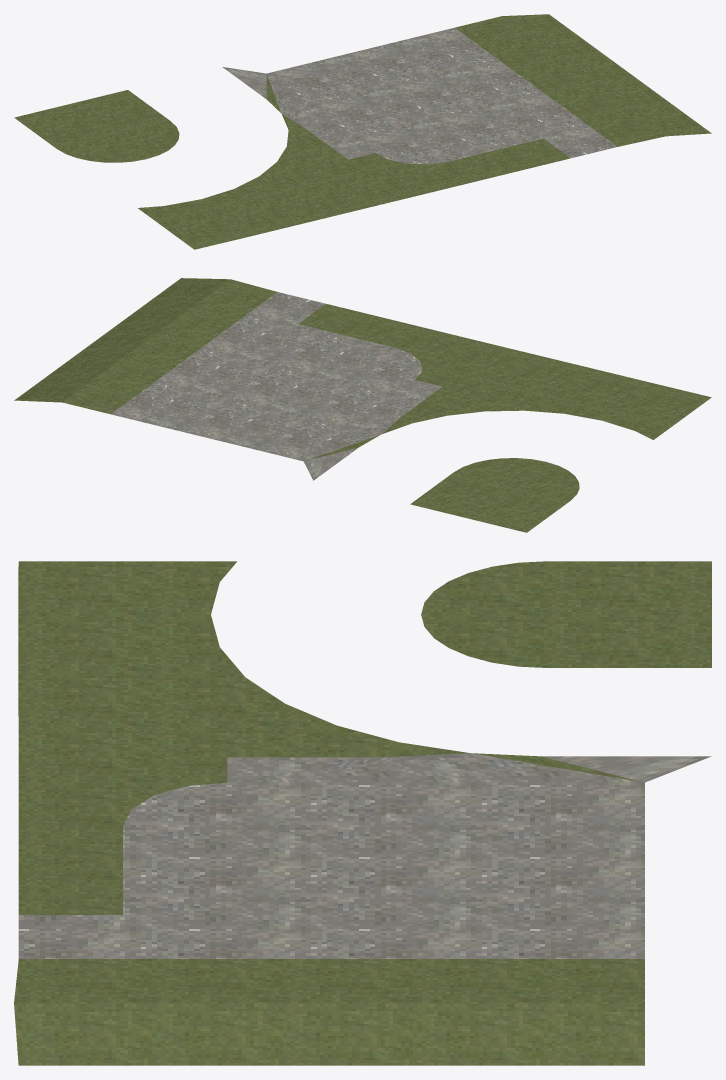
The model's file is lodsairportland01.obj.
The picture shows the model from 3 angles, top to bottom: view 1: azimuth 30°, elevation 25°; view 2: azimuth 150°, elevation 25°; view 3: azimuth 270°, elevation 25°; orthographic projection. The views are drawn at different scales.
Visible parts, largest first — view 1: lodSairportland01; view 2: lodSairportland01; view 3: lodSairportland01.
Part boxes in pixels (x1,y1,x2,y2): lodSairportland01: [14, 14, 711, 249]; lodSairportland01: [14, 278, 711, 532]; lodSairportland01: [14, 561, 711, 1065].
Size of the model in its own units: 220 by 4.09 by 134.
2 materials, 2 textured.
